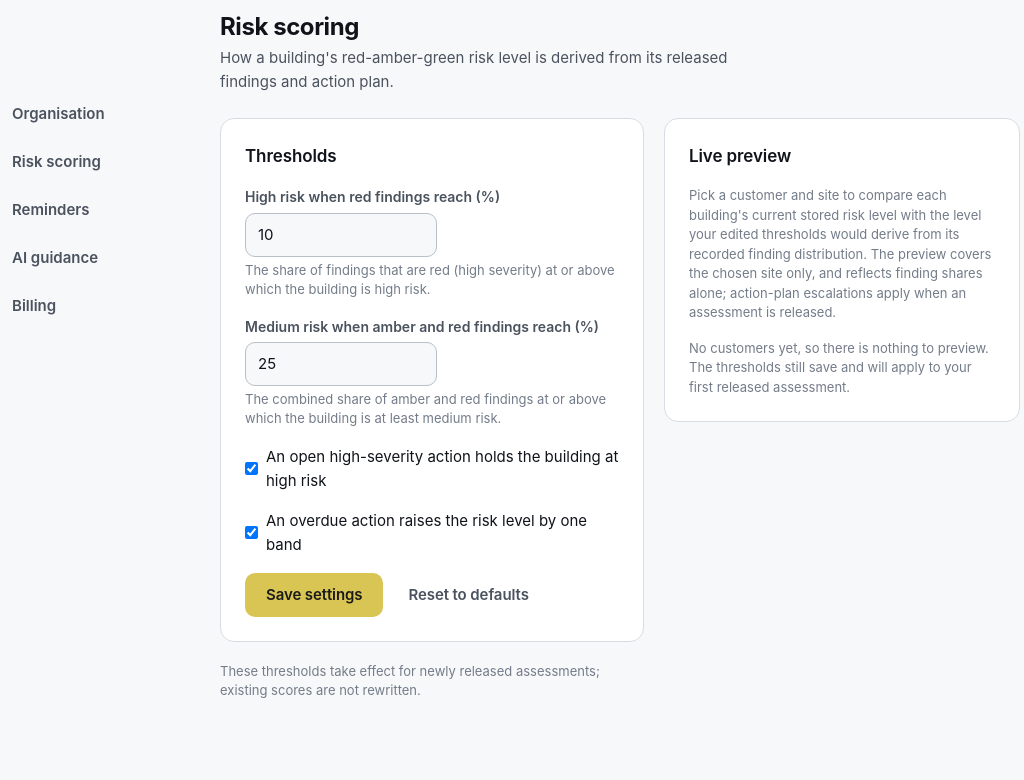
Test: RagSettingsPage › rejects a zero red threshold with a hard error and blocks saving
Replace the text in the number field labelled "High risk when red findings reach (%)" with "0": (341, 235) [245, 213, 437, 257]
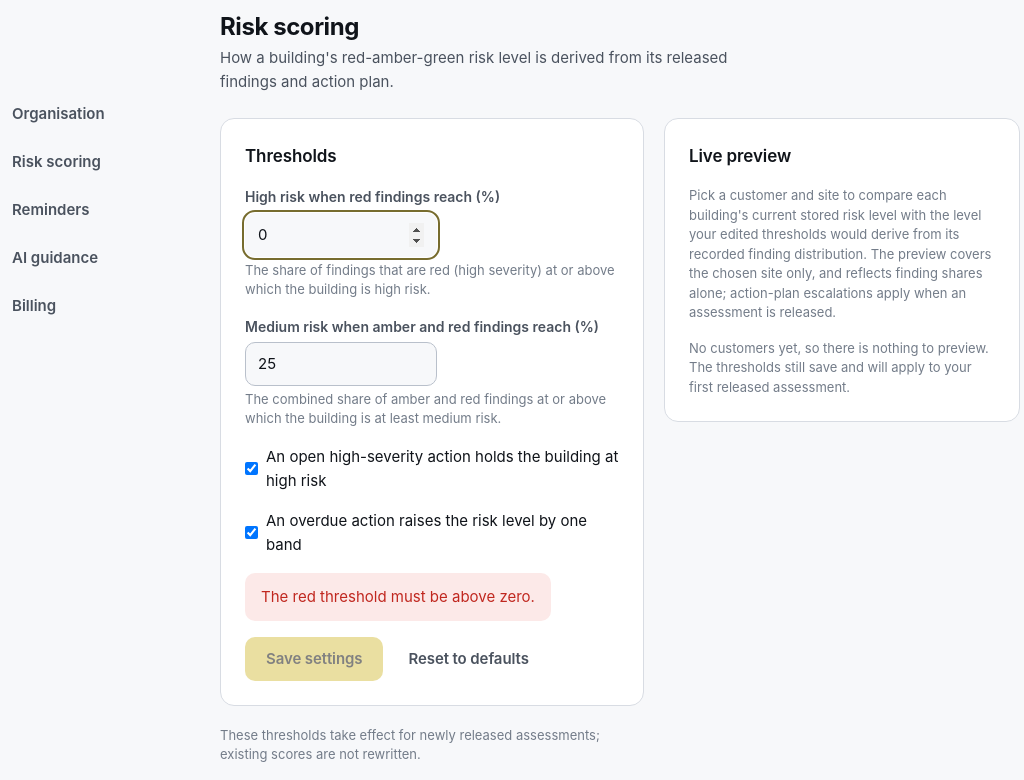
Result: the button "Save settings" is disabled at [245, 637, 384, 681]
Result: the text "The red threshold must be above zero." is shown at [245, 573, 551, 621]
